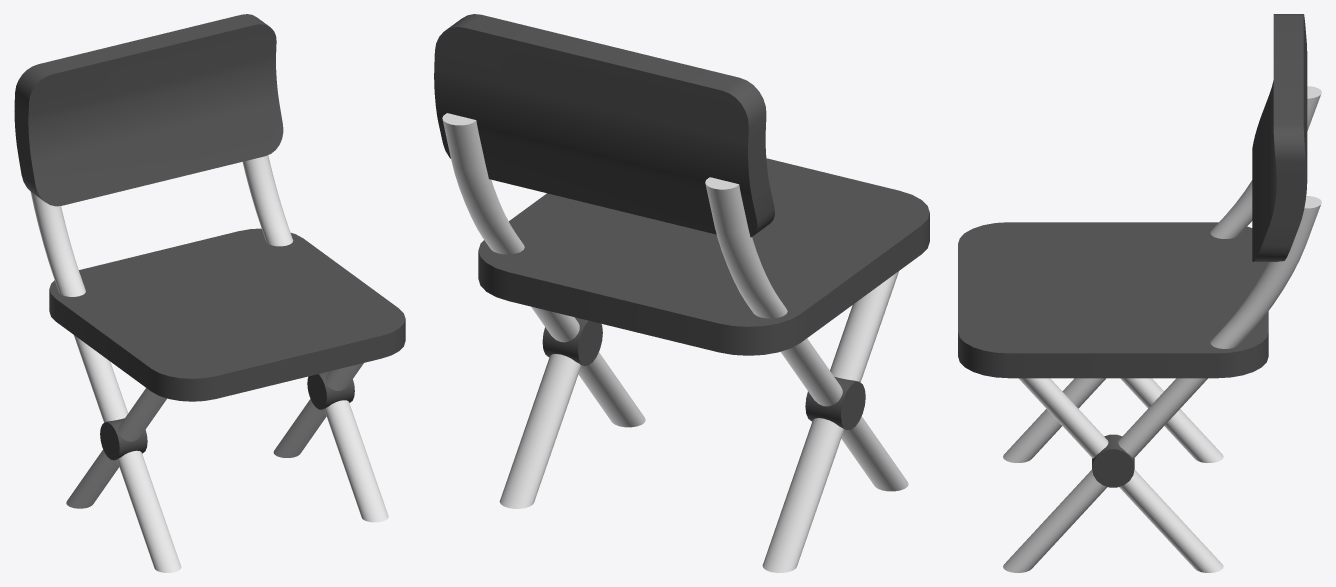
File: Stool Black.fbx
The picture shows the model from 3 angles, left to right: view 1: azimuth 30°, elevation 25°; view 2: azimuth 150°, elevation 25°; view 3: azimuth 270°, elevation 25°; orthographic projection. The views are drawn at different scales.
Parts seen in each view (by area): view 1: Stool Black; view 2: Stool Black; view 3: Stool Black.
Boxes of the visible parts, x1,y1,x2,y2 form: Stool Black: [14, 14, 405, 572]; Stool Black: [434, 14, 929, 572]; Stool Black: [958, 14, 1321, 572].
Bounding box in the file's own units: 77.06 × 121 × 90.29.
